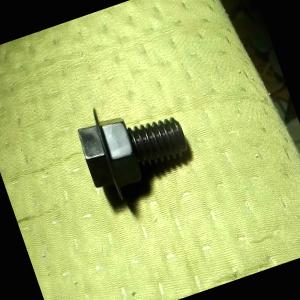parafuso: (68, 80, 198, 206)
